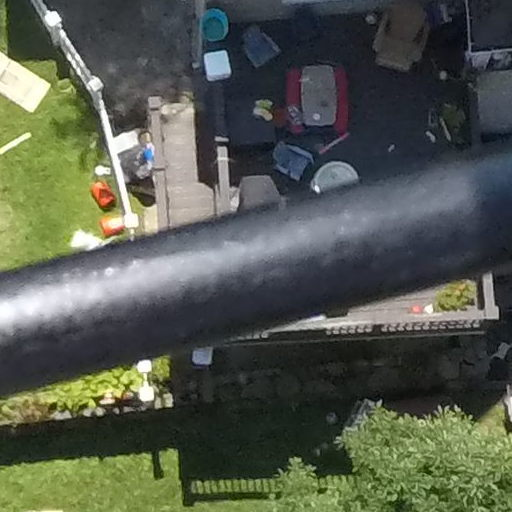bucket: (84, 179, 122, 210), (94, 209, 129, 236)
container: (197, 7, 236, 41)
